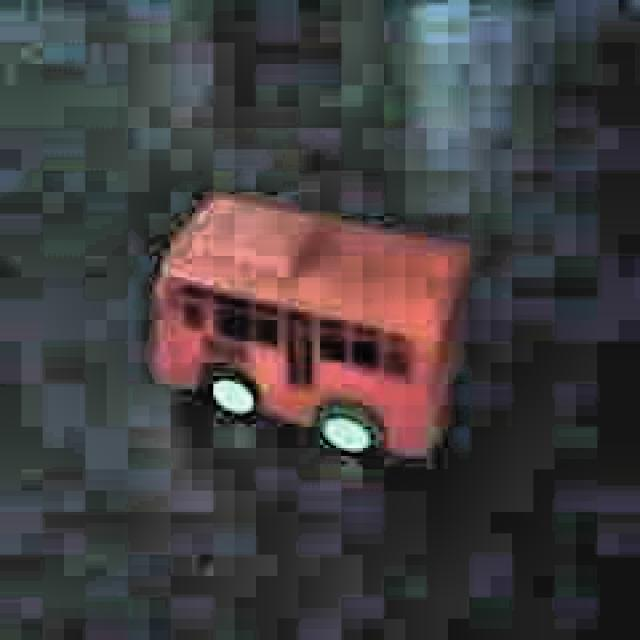bus: (147, 184, 480, 465)
